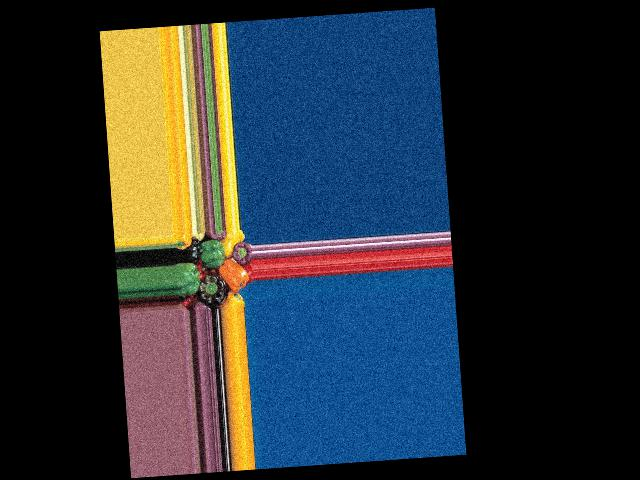bell_pepper: (174, 263, 198, 297)
